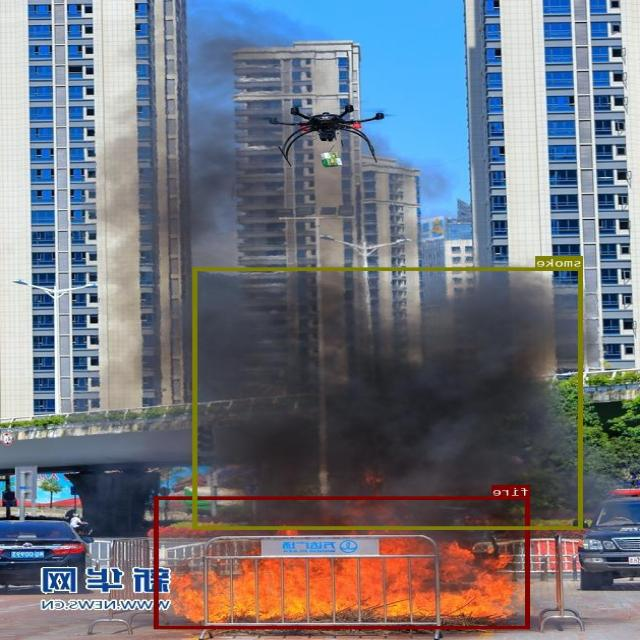fire: (155, 496, 530, 629)
smoke: (194, 267, 584, 529)
